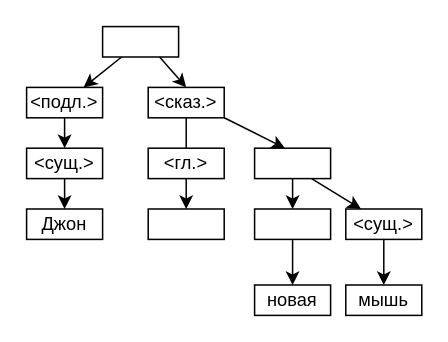
Image size: 448x342. Some labels were removed from this diagram. Here are the shapes that lost their labels. From the top down, the centre of each, then its label:
At point 140,41: "<предл>".
At point 292,163: "<допол.>".
At point 185,223: "купить".
At point 292,223: "<прил.>".
